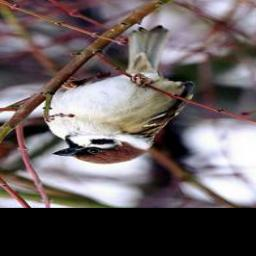Sparrow: (42, 27, 199, 165)
